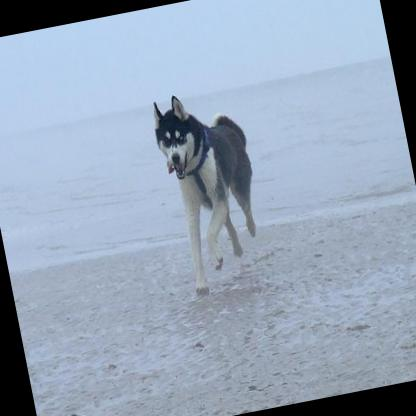Siberian_husky: (145, 81, 275, 300)
